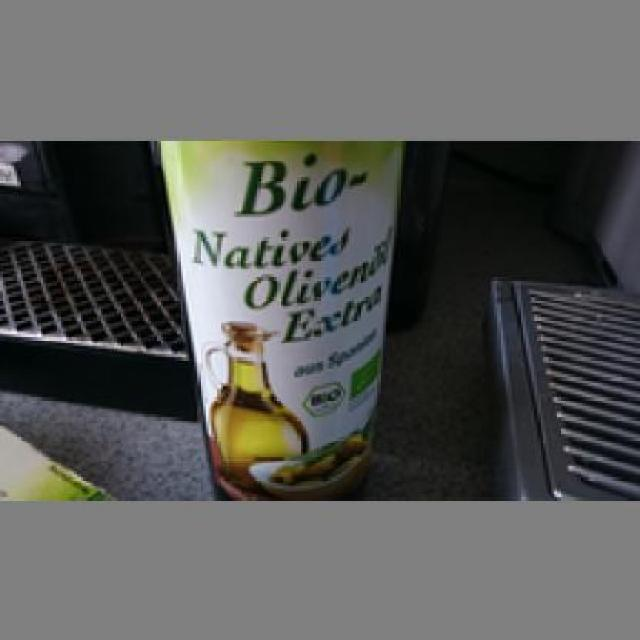Oil: (150, 134, 407, 492)
